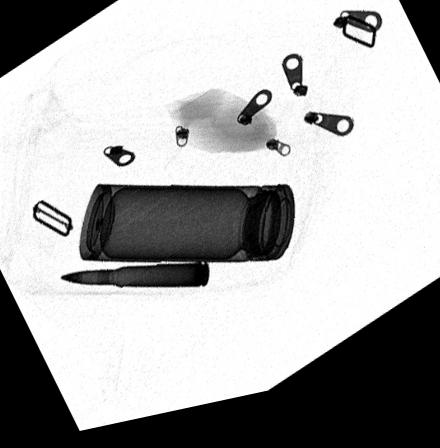Bullet: (56, 269, 210, 297)
